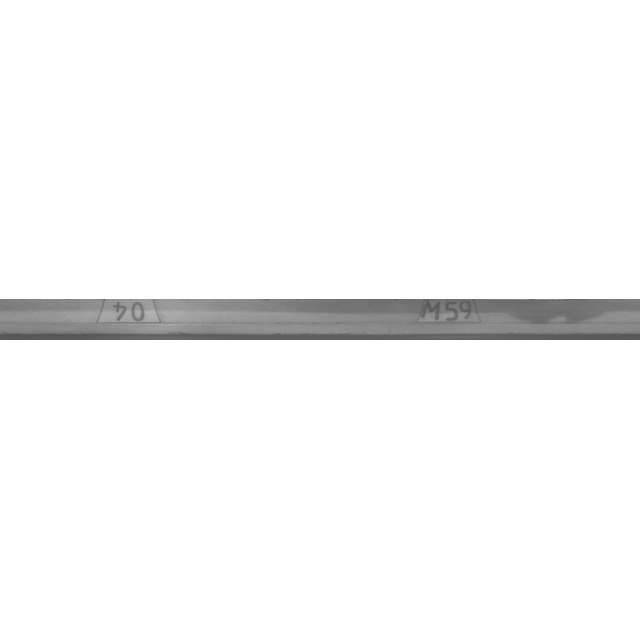mohao: (352, 270, 552, 370)
xuehao: (30, 270, 230, 370)
